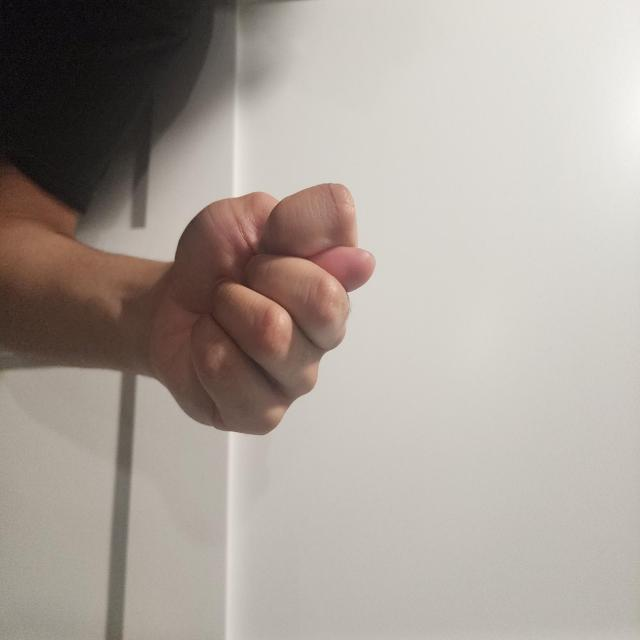T: (293, 344, 496, 627)
